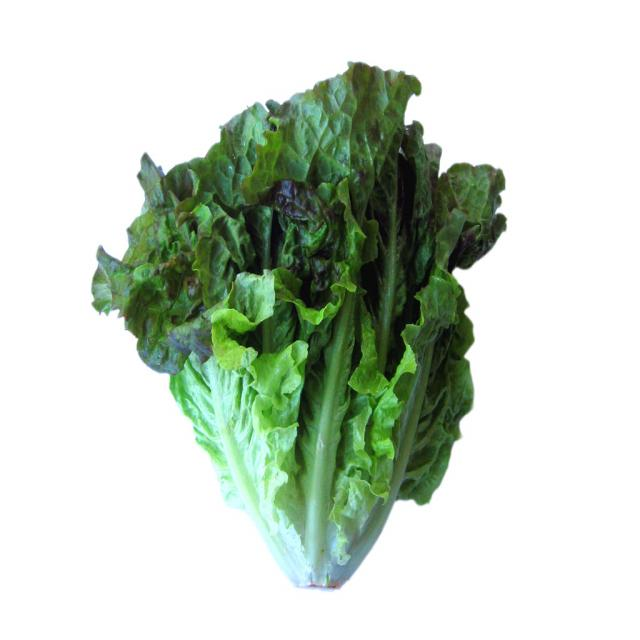lettuce: (82, 54, 509, 518)
